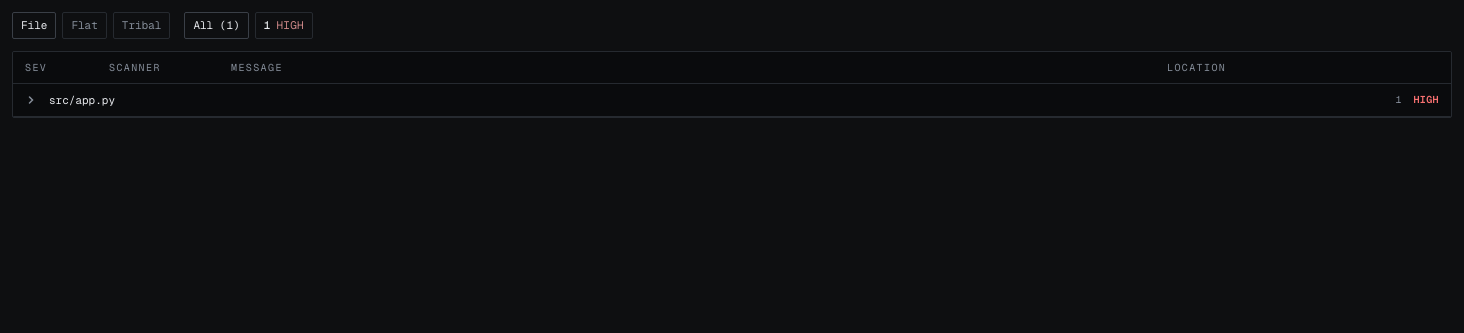
Scenario: FindingsTable source context › explains why historical context is unavailable
What coordinates should you click on to do the following:
click the button "src/app.py 1 HIGH"
I would click on:
 (82, 100)
Its box is [13,84,1451,117].
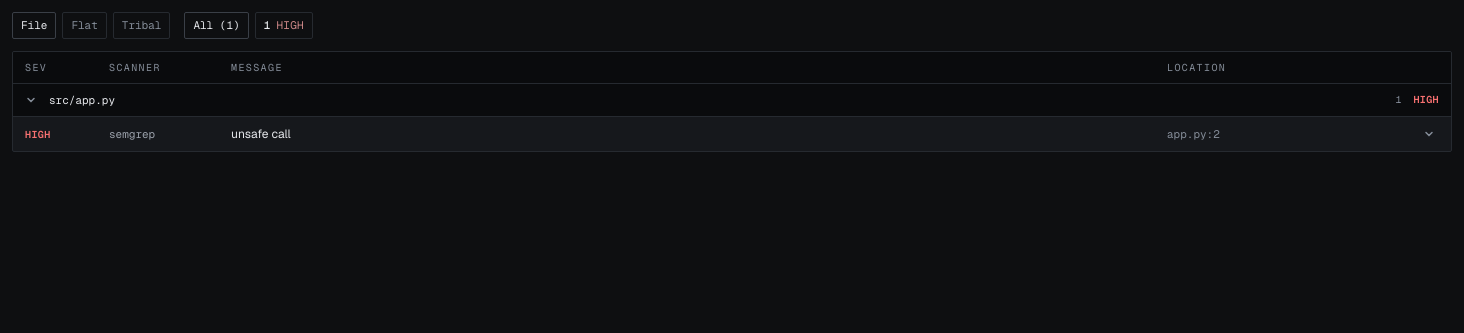
What coordinates should you click on to do the following:
click the button "HIGH semgrep unsafe call app.py:2"
I would click on:
 (132, 134)
Its box is [13,117,1451,151].
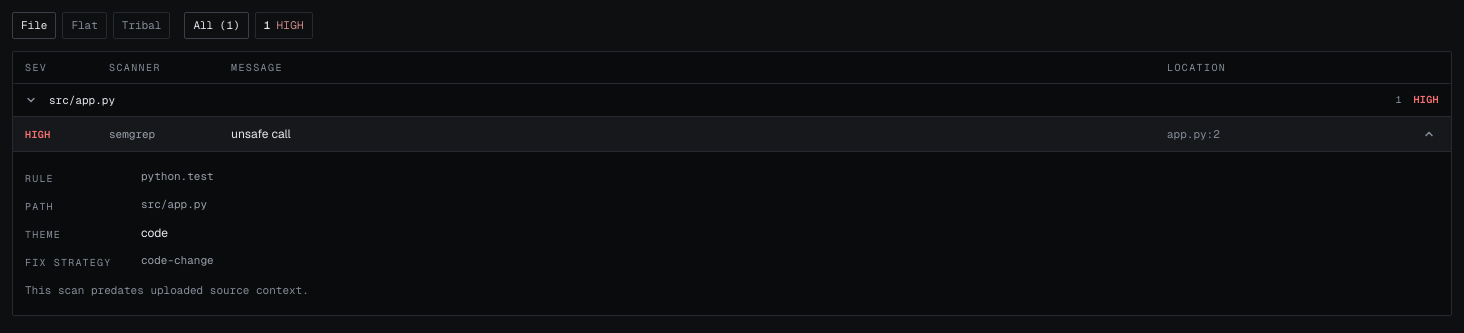
Check: the text "This scan predates uploaded source context." is shown, box [25,283,309,297]
